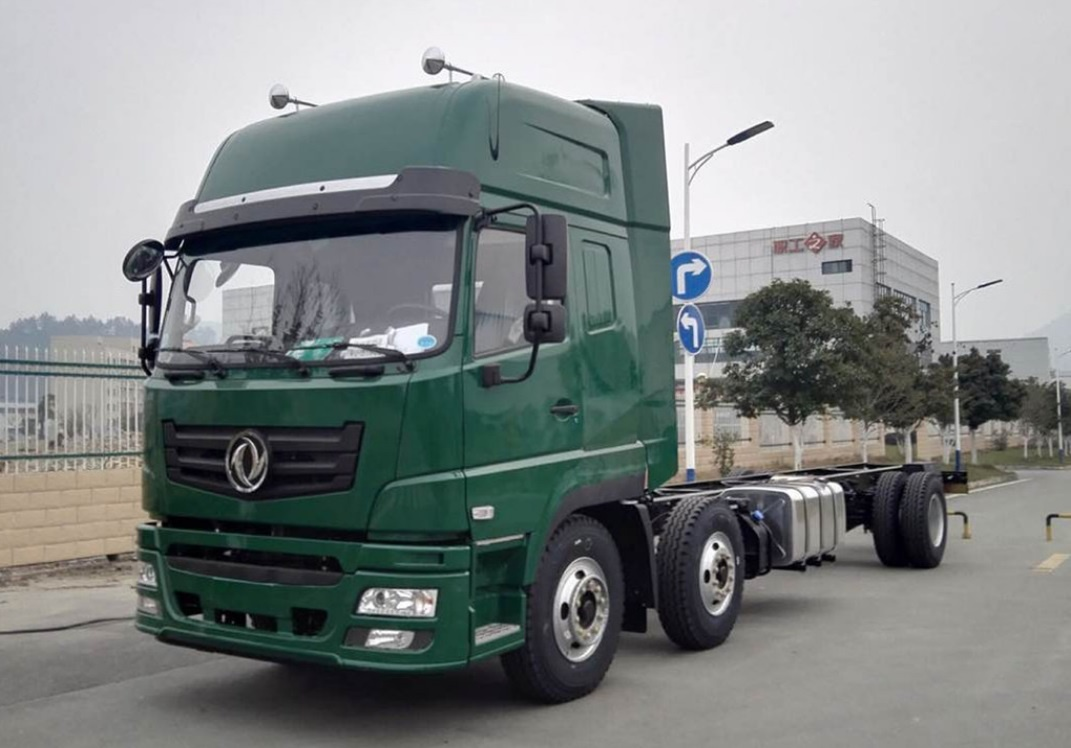heavy truck: (114, 57, 970, 689)
